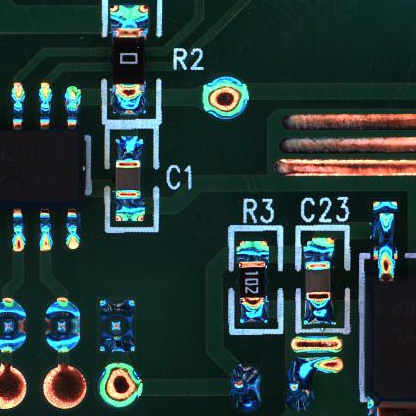spot: (41, 292, 84, 355), (95, 292, 137, 355), (201, 71, 253, 121), (1, 294, 31, 357), (226, 361, 262, 411)
